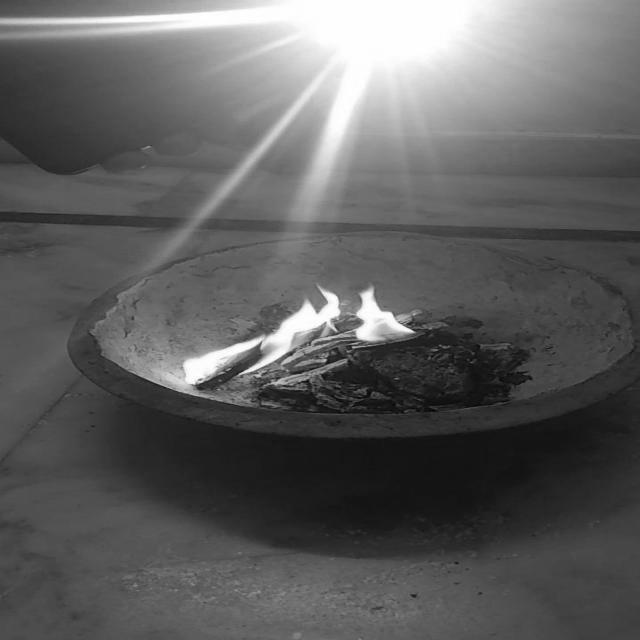smoke: (245, 282, 345, 382), (175, 322, 278, 390), (352, 282, 429, 352)
